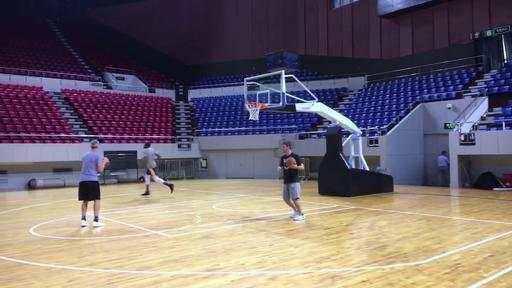ball: (286, 157, 296, 165)
human: (78, 140, 108, 228), (276, 142, 306, 222), (140, 142, 174, 196), (436, 150, 450, 186)
rim: (245, 102, 265, 120)
